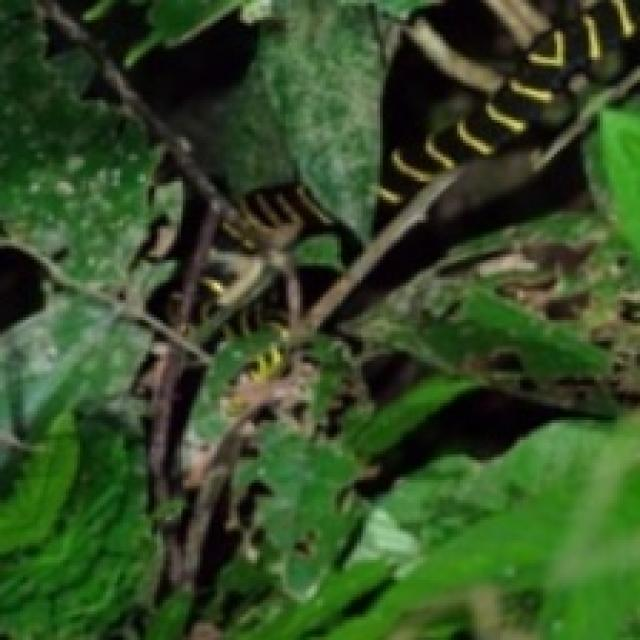mangrove cat snake: (379, 0, 640, 221), (240, 184, 334, 249)
